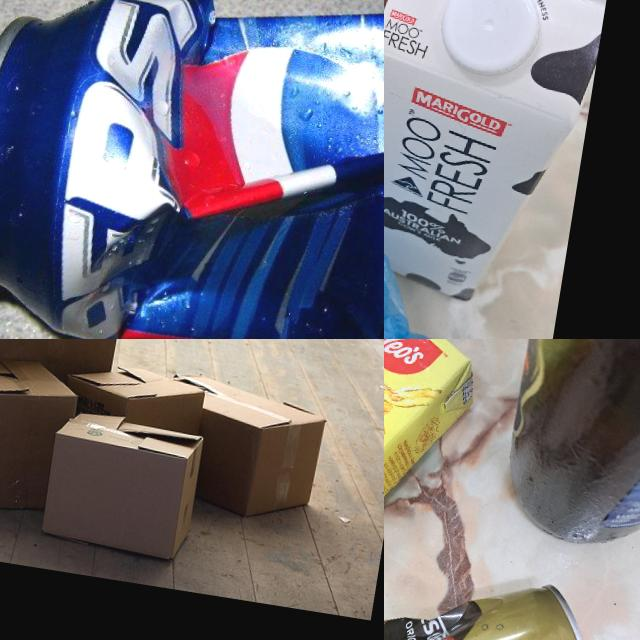caixinha: (384, 0, 606, 319), (384, 339, 490, 615)
garrafa de vidro: (496, 339, 640, 563)
lata: (0, 0, 384, 339), (384, 542, 602, 640)
papelão: (150, 368, 332, 530), (38, 407, 208, 563), (0, 339, 122, 498), (0, 348, 83, 524), (62, 357, 208, 435)
sacola plástica: (384, 179, 530, 339)
